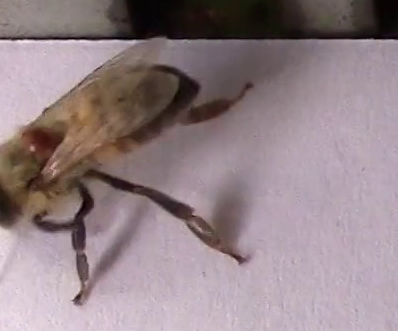Varroa destructor: (21, 123, 61, 164)
